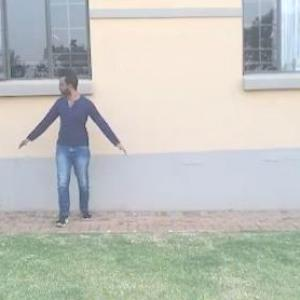land: (27, 61, 129, 233)
